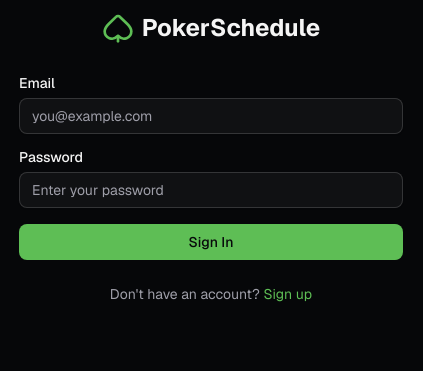
LoginForm › shows error on unexpected exception
Type "test@example.com" into the field labelled "Email" at point(211, 116), box [19,98,403,134]
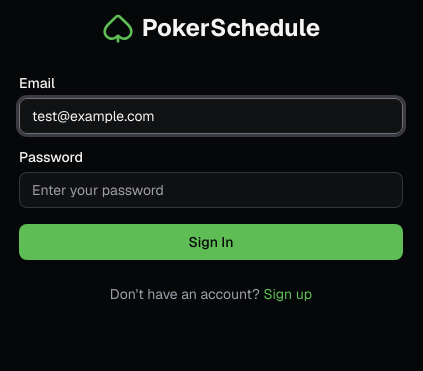
Type "secret123" into the password field labelled "Password" at point(211, 190), box [19,172,403,208]
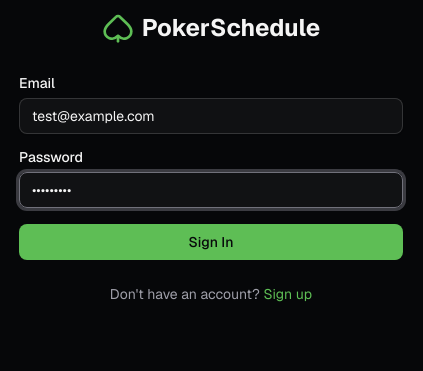
Click the button "Sign In" at point(211, 242), box [19,224,403,260]
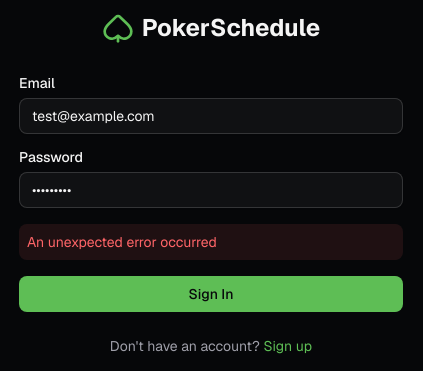
Now the text "An unexpected error occurred" is shown, box [19,224,403,260]
